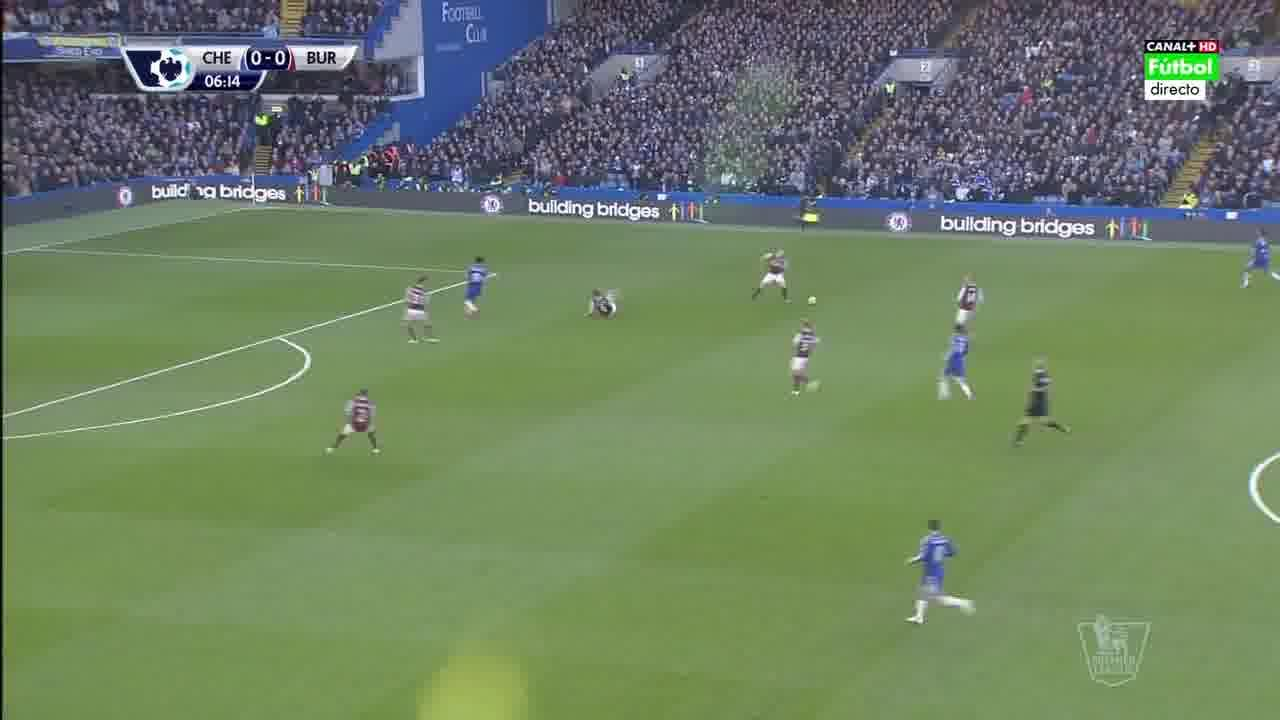football: (808, 295, 816, 306)
